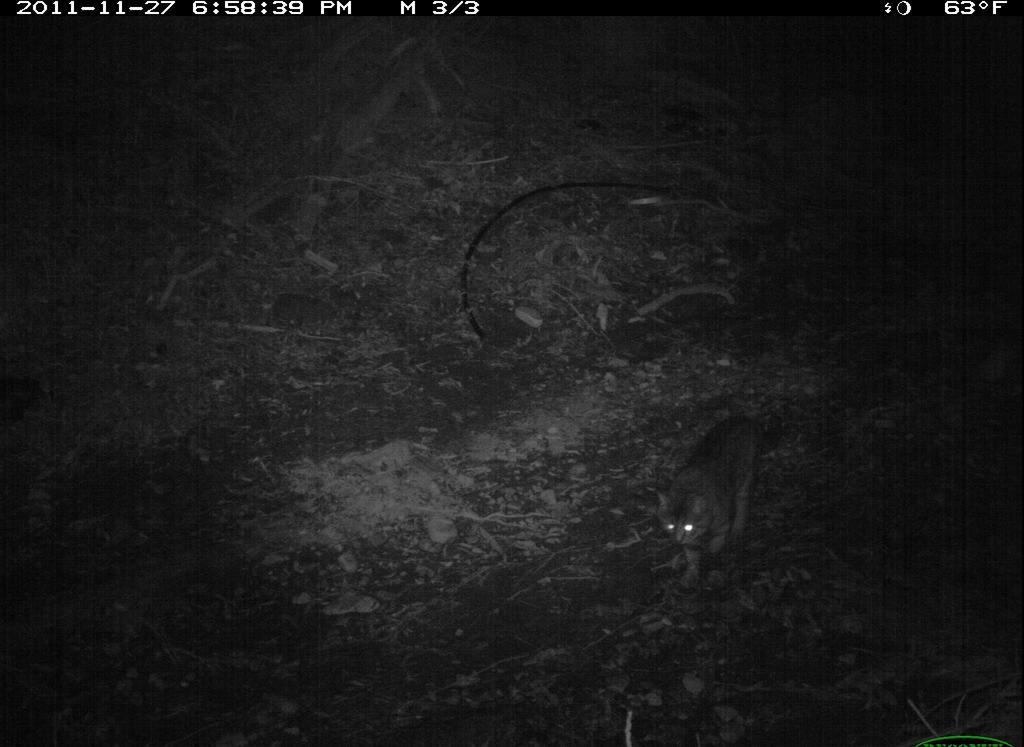cat: (651, 411, 776, 598)
